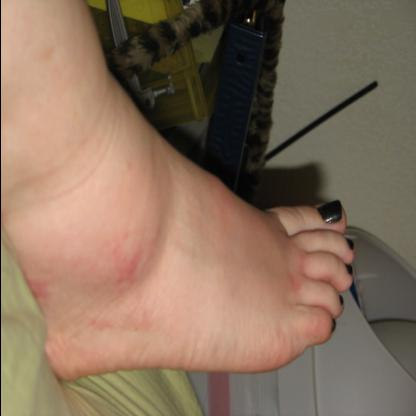Fire ant: (113, 242, 141, 288), (288, 250, 311, 298), (26, 274, 50, 300)
